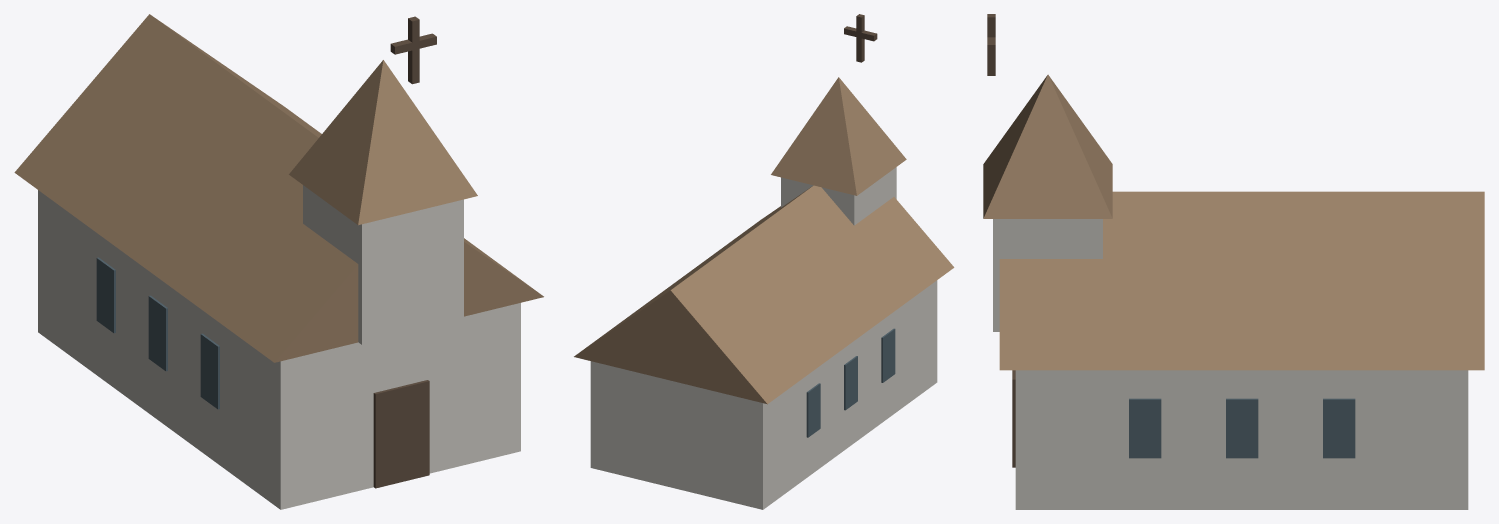
The model's file is w_kapelle.glb.
3 views of the same model, side by side, from view 1: azimuth 30°, elevation 25°; view 2: azimuth 150°, elevation 25°; view 3: azimuth 270°, elevation 25° (orthographic). The views are drawn at different scales.
Parts seen in each view (by area): view 1: koerper; view 2: koerper; view 3: koerper.
Boxes of the visible parts, <box> form: koerper: <box>14,14,543,509</box>; koerper: <box>574,14,954,509</box>; koerper: <box>983,14,1484,509</box>.
Size of the model in its own units: 9 by 15 by 15.5.
